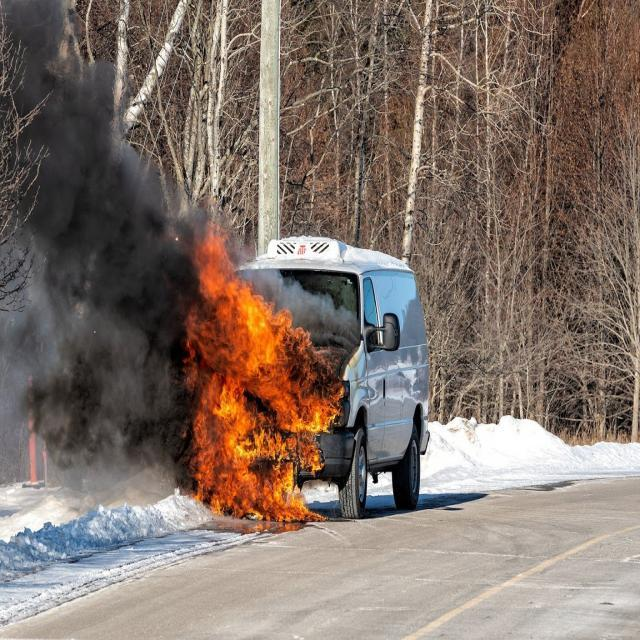Fire: (180, 229, 344, 530)
Smoke: (0, 0, 213, 505), (233, 256, 357, 351)
